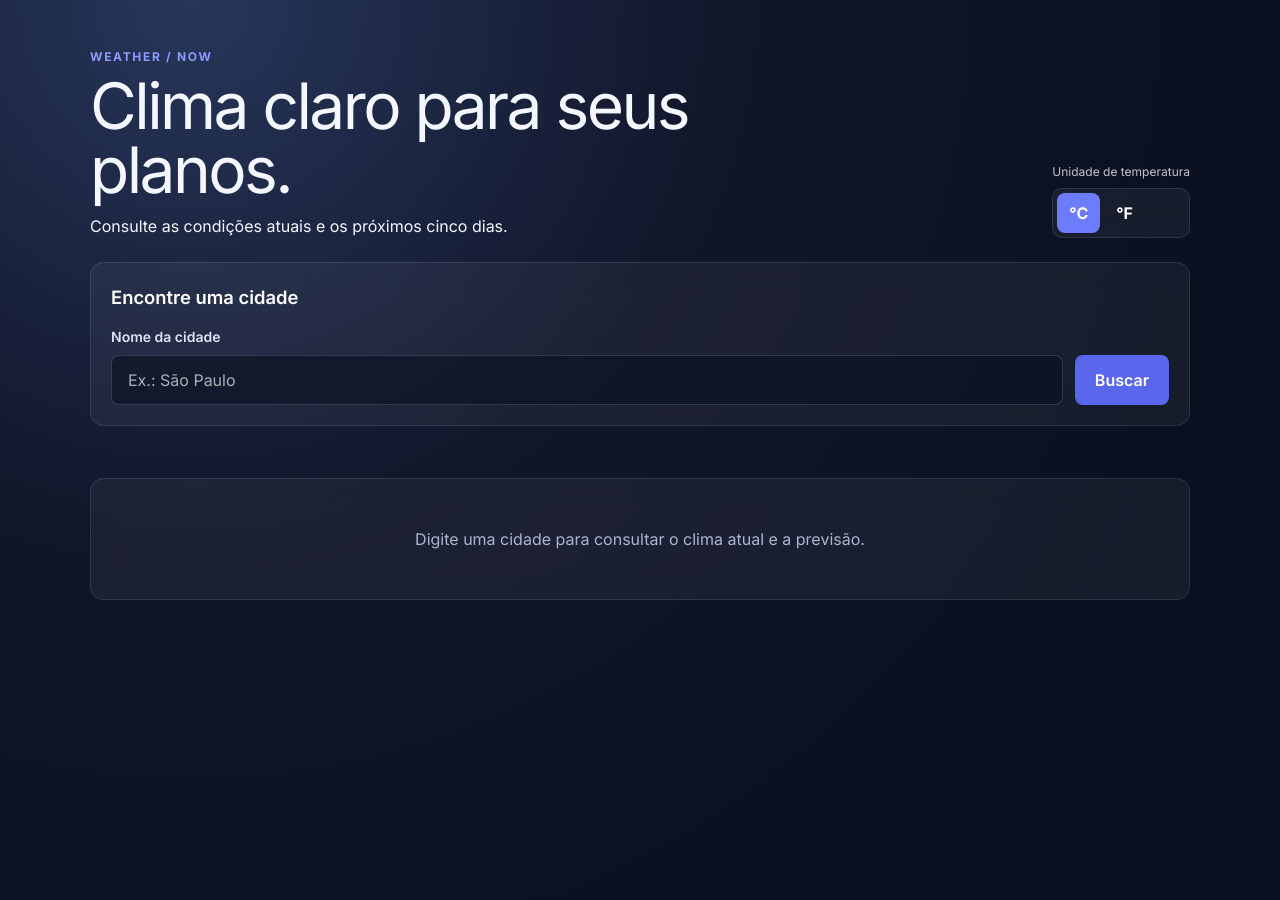
Scenario: App › shows forecast failure and retries the last operation
Type "São Paulo" into the field labelled "Nome da cidade" at (587, 380), box [111,355,1063,405]
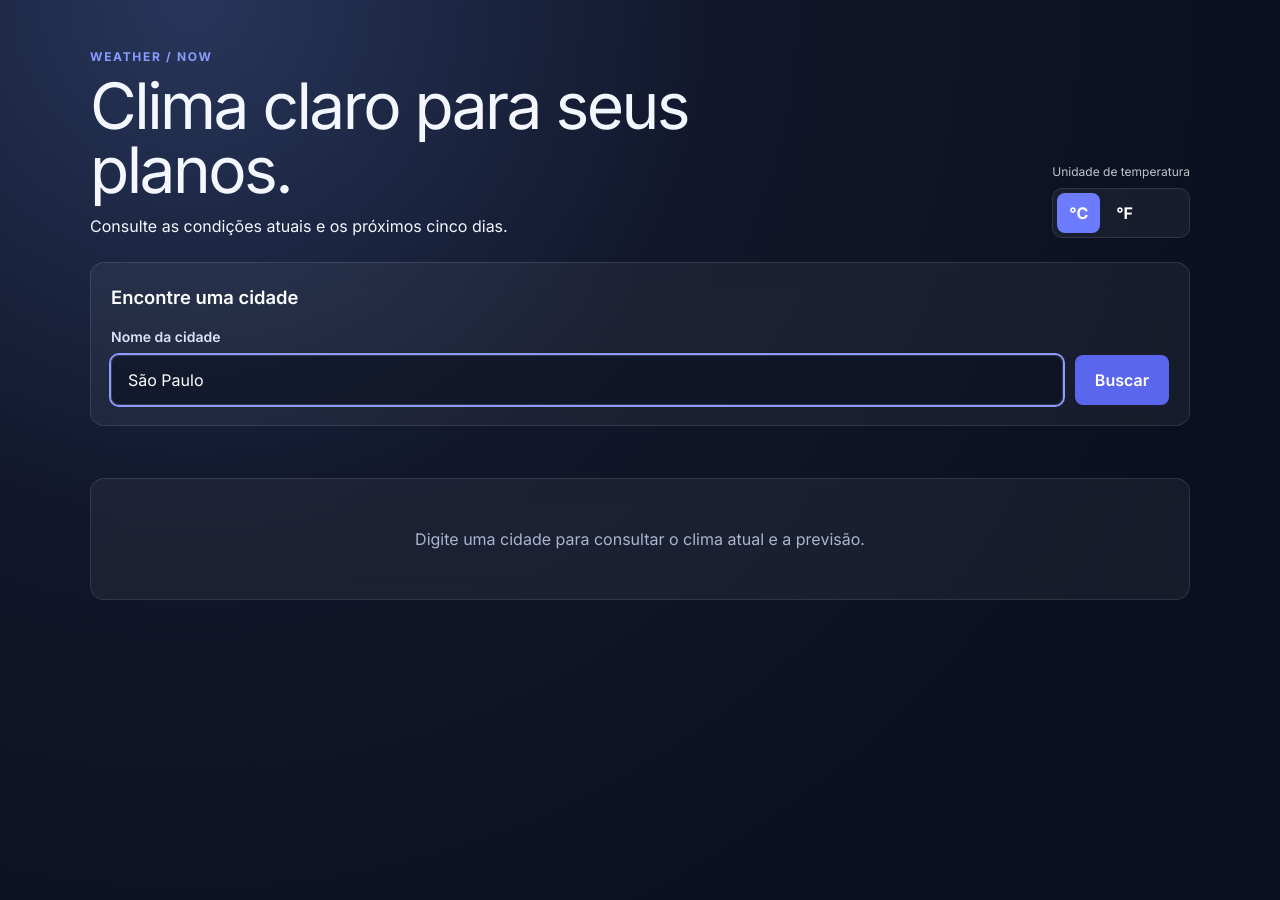
Click the button "Buscar" at (1122, 380), box [1075,355,1169,405]
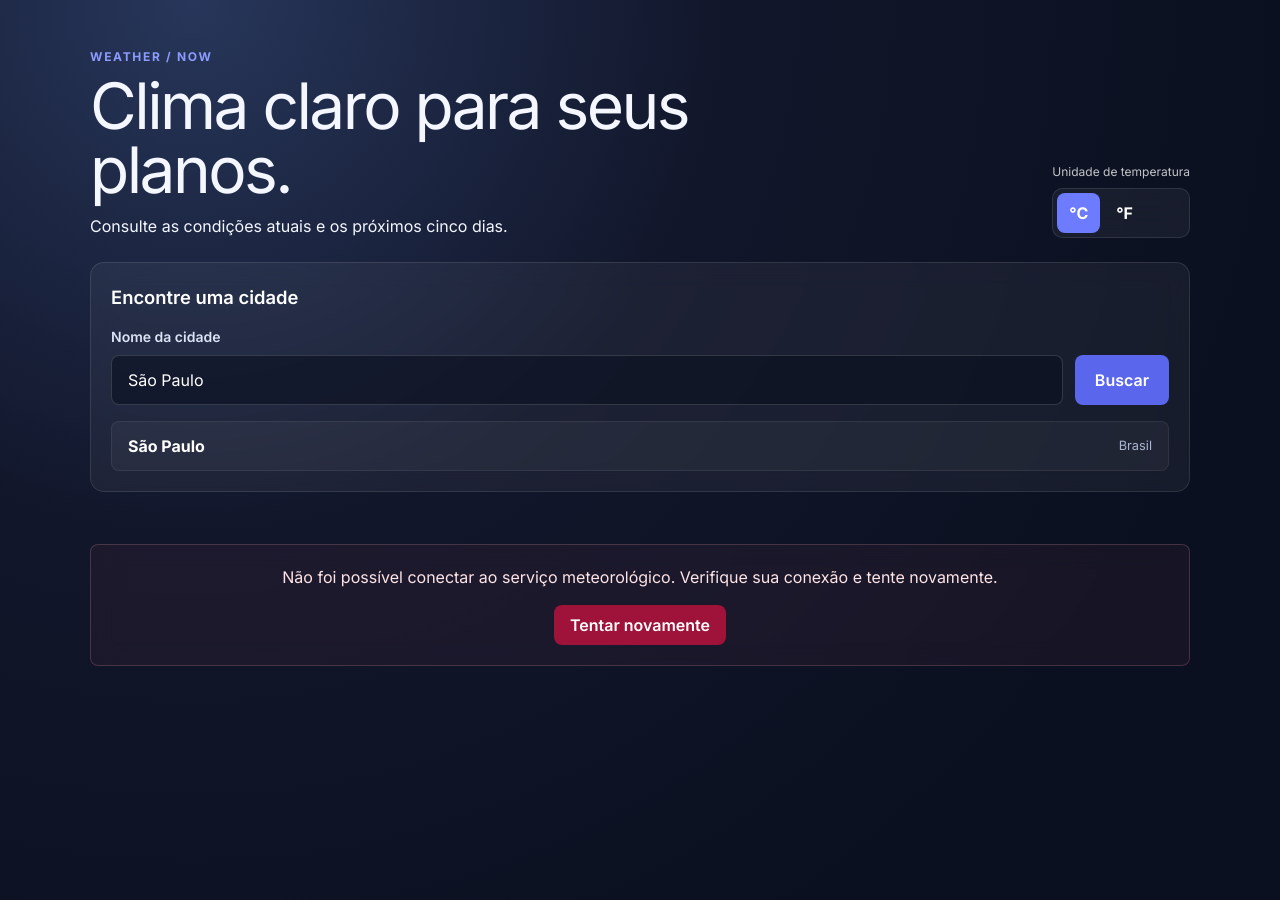
Result: the message shows "Não foi possível conectar ao serviço meteorológico. Verifique sua conexão e tente novamente." at [282,567,998,587]
Click the button "Tentar novamente" at (640, 625), box [554,605,726,645]
(page scrolled)
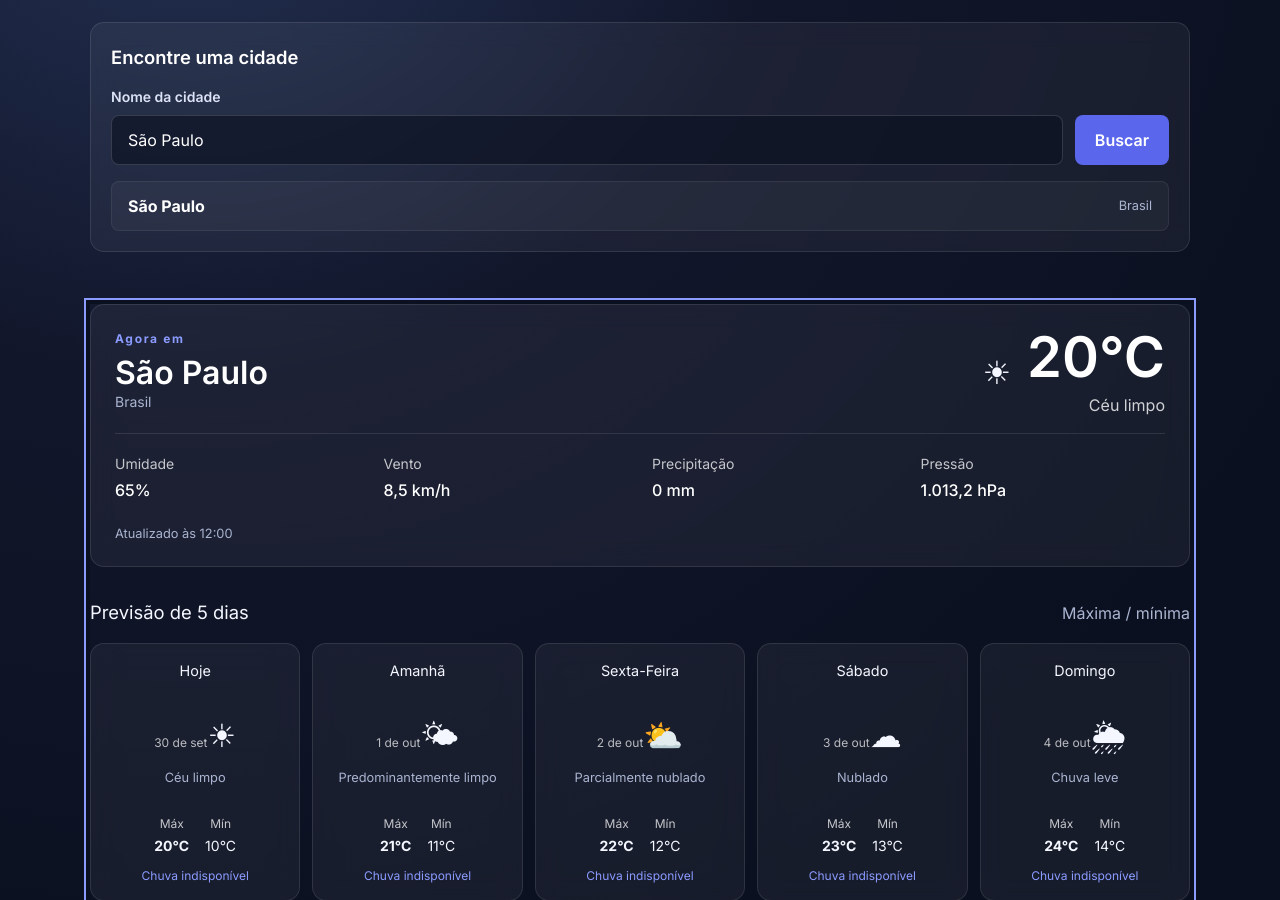
Result: the heading "São Paulo" is shown at [115,353,268,392]
